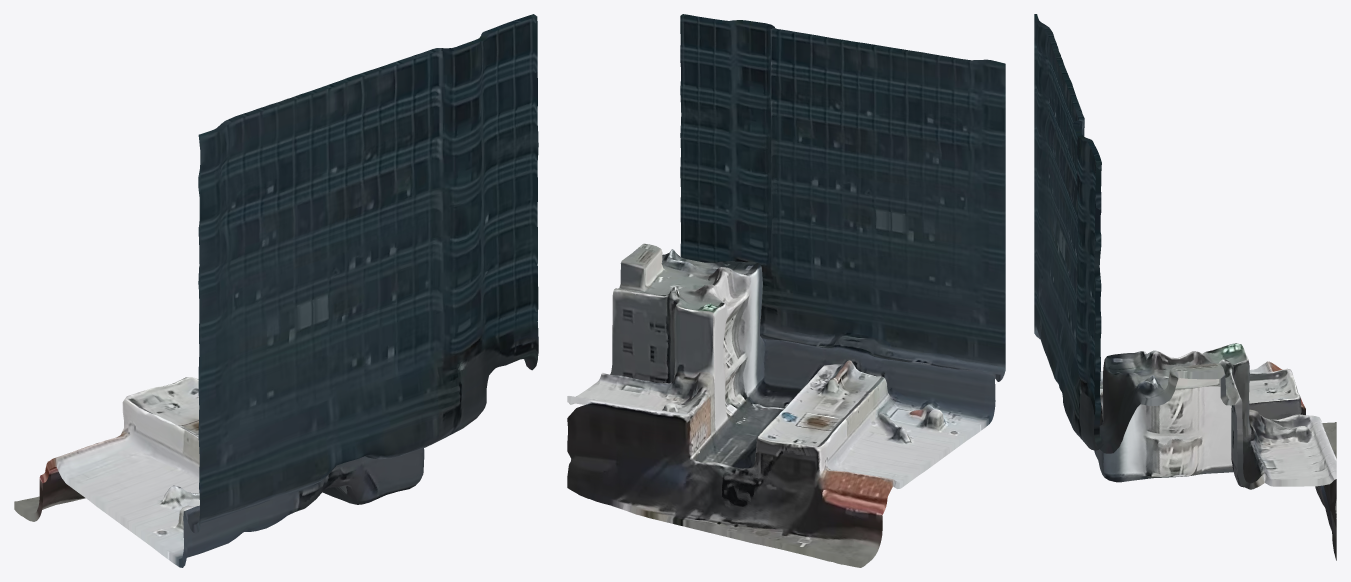
Rendered from z20-167761-405235-h0-yup-uvflip-v3-world.glb.
The picture shows the model from 3 angles, left to right: view 1: azimuth 30°, elevation 25°; view 2: azimuth 150°, elevation 25°; view 3: azimuth 270°, elevation 25°; orthographic projection. The views are drawn at different scales.
Bounding box in the file's own units: 30.16 × 39.32 × 25.92.
1 material, 1 textured.
